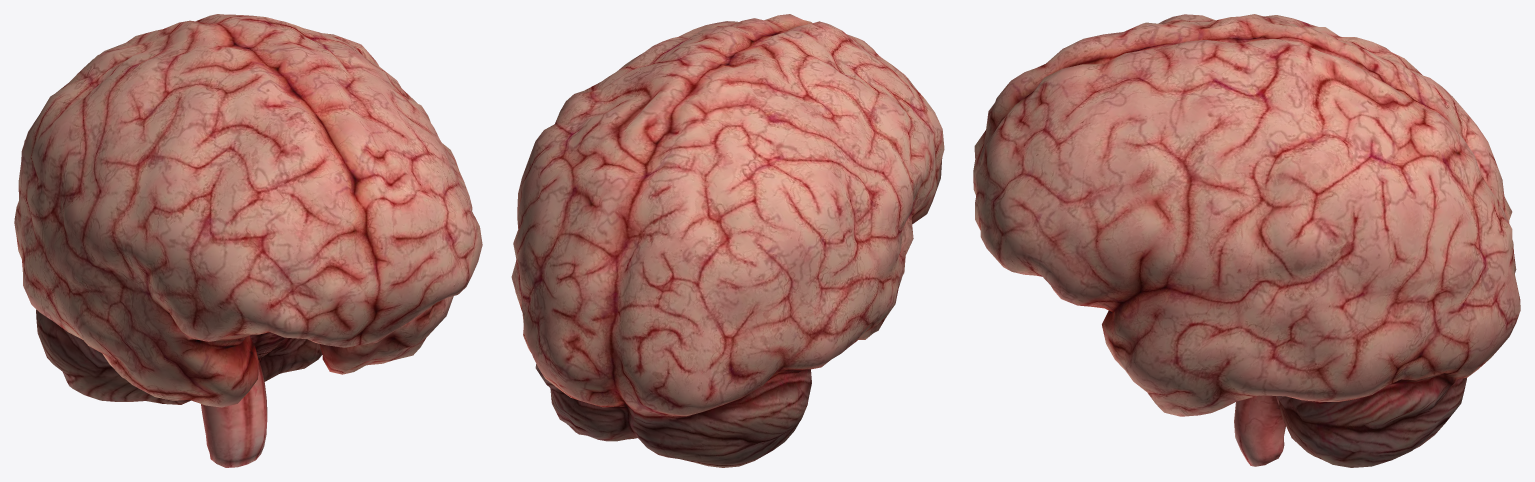
Rendered from human_brain.glb.
3 views of the same model, side by side, from view 1: azimuth 30°, elevation 25°; view 2: azimuth 150°, elevation 25°; view 3: azimuth 270°, elevation 25° (orthographic). The views are drawn at different scales.
Parts seen in each view (by area): view 1: brain.1_1; view 2: brain.1_1; view 3: brain.1_1.
Boxes of the visible parts, x1,y1,x2,y2 form: brain.1_1: (14,14,482,467); brain.1_1: (511,14,944,467); brain.1_1: (973,14,1520,467).
Size of the model in its own units: 0.7609 by 0.8546 by 0.991.
1 material, 1 textured.
